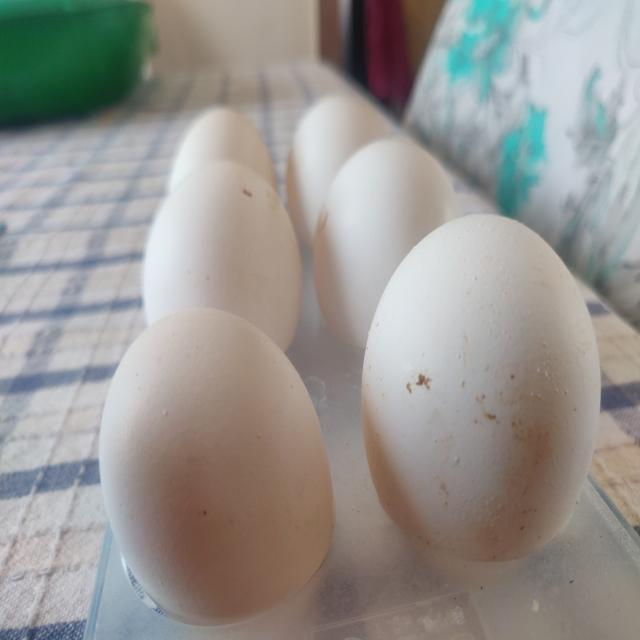Egg: (362, 214, 602, 561), (99, 308, 333, 626), (313, 136, 461, 347), (143, 160, 302, 350), (286, 94, 386, 245)
